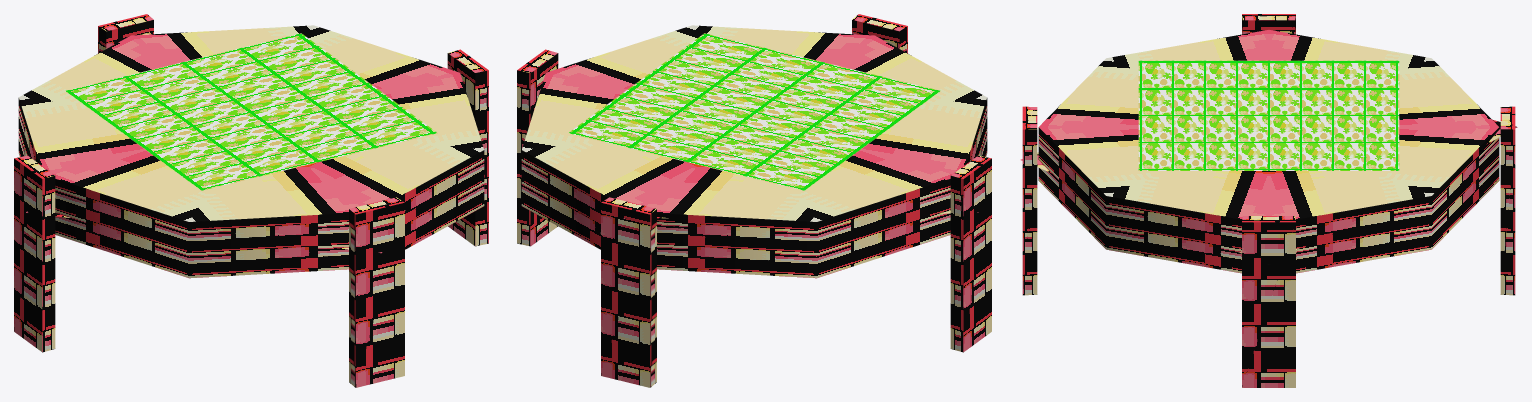
3 views of the same model, side by side, from view 1: azimuth 30°, elevation 25°; view 2: azimuth 150°, elevation 25°; view 3: azimuth 270°, elevation 25° (orthographic). The views are drawn at different scales.
Visible parts, largest first — view 1: 3596kg_00_ta0; view 2: 3596kg_00_ta0; view 3: 3596kg_00_ta0.
Part boxes in pixels (left/top/right/bottom): 3596kg_00_ta0: left=14, top=14, right=488, bottom=387; 3596kg_00_ta0: left=517, top=14, right=991, bottom=387; 3596kg_00_ta0: left=1020, top=14, right=1517, bottom=387.
Size of the model in its own units: 2.01 by 0.75 by 2.01.
2 materials, 2 textured.
